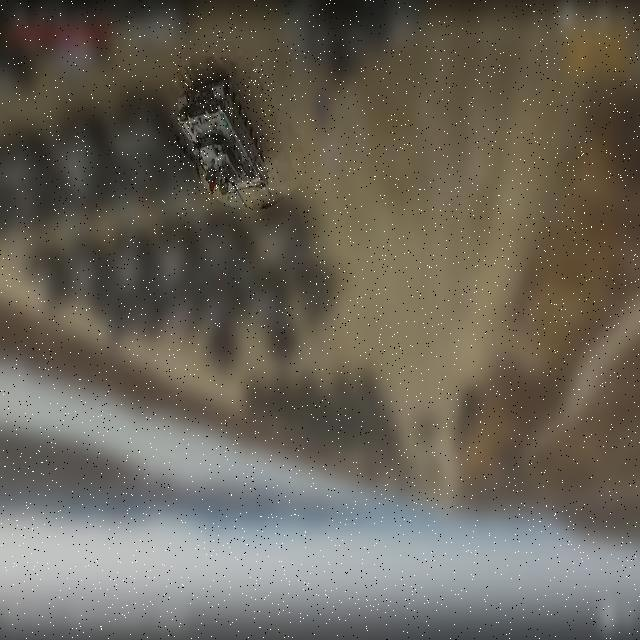MIL_MBT: (174, 71, 274, 211)
